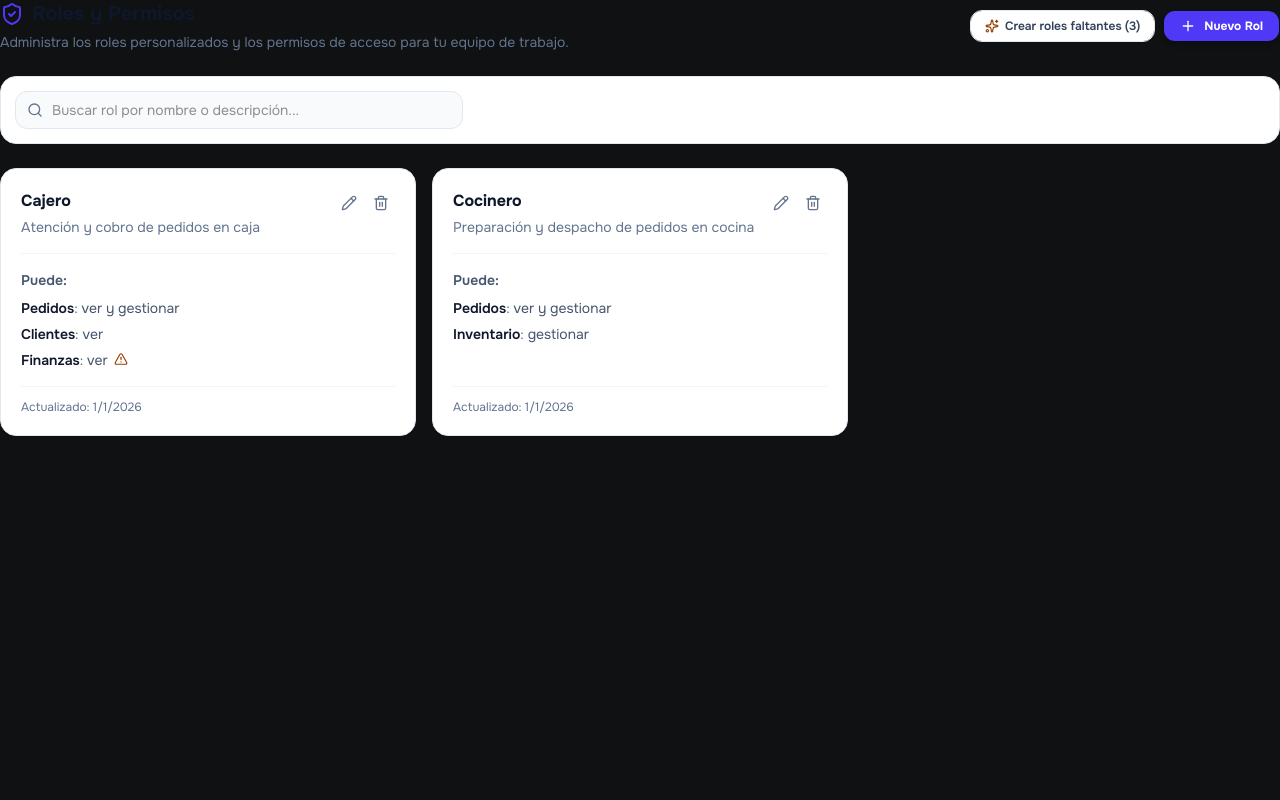
Test: RolesManager Component (TDD) › handles 409 conflict error when deleting a role with assigned users
The width and height of the screenshot is (1280, 800).
Expected: the heading "Cajero" is shown, [21,189,71,213]
What coordinates should you click on to do the following:
click the button named "Eliminar rol Cajero"
I would click on:
 (381, 203)
Its box is [367,189,395,217].
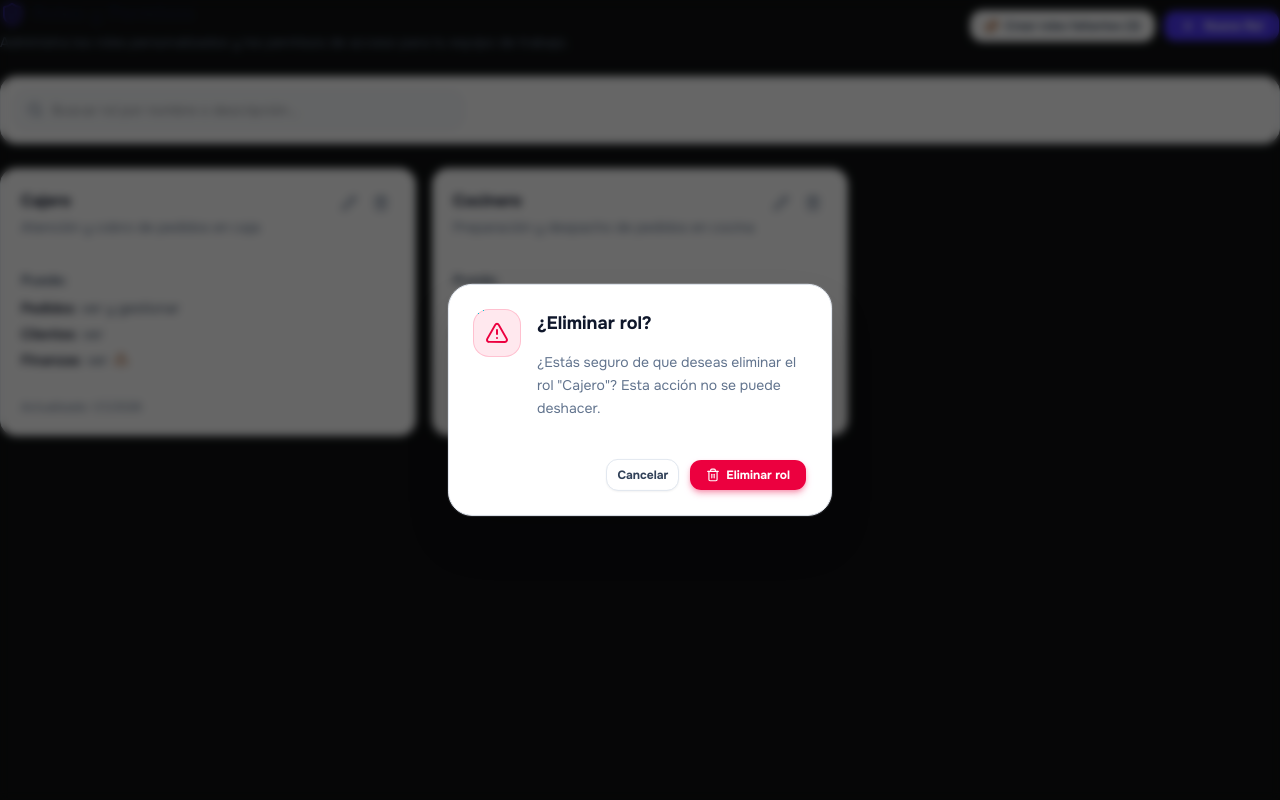
What coordinates should you click on to do the following:
click the button "Eliminar rol"
I would click on:
 (748, 475)
Its box is [689,459,807,491].
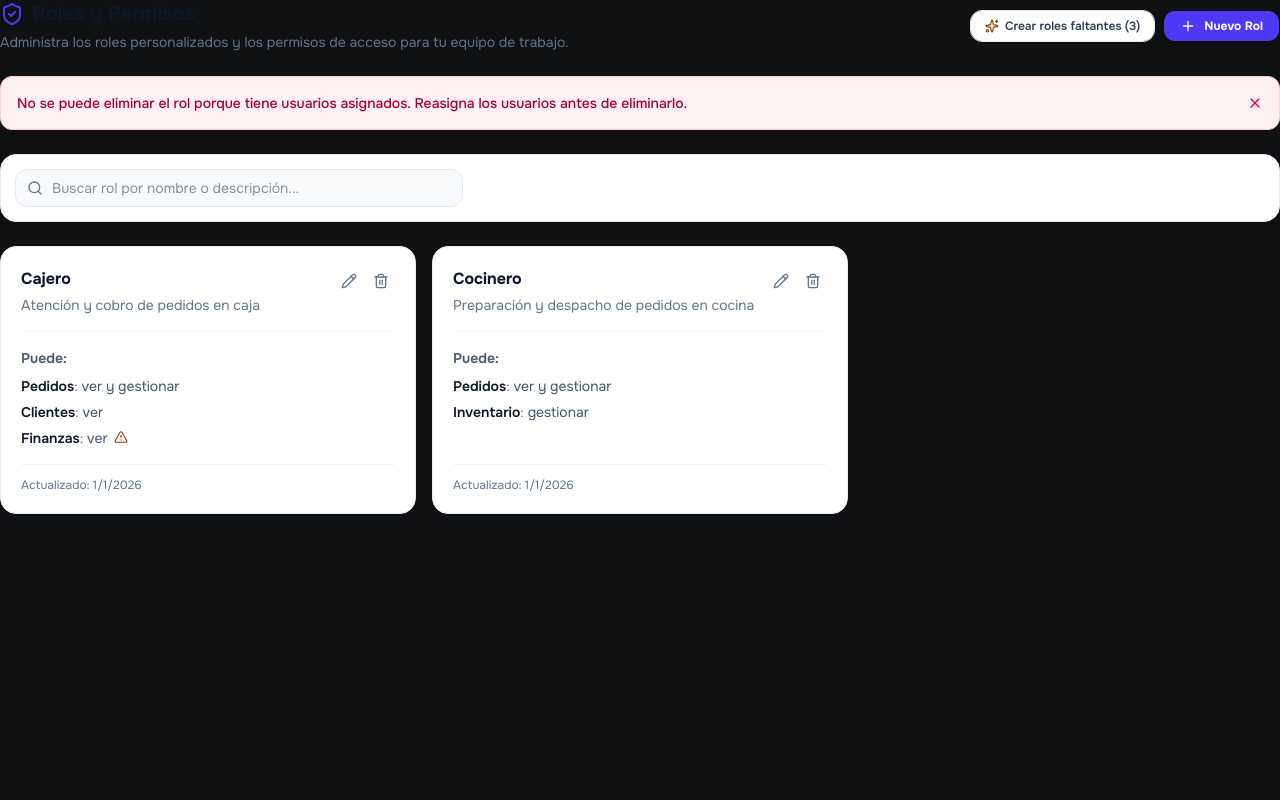
Expected: the text "No se puede eliminar el rol porque tiene usuarios asignados" is shown, [17,94,687,112]
